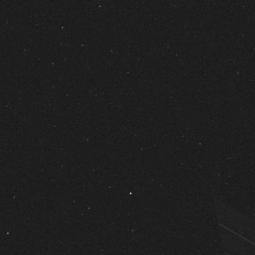soho: (205, 191, 255, 255)
